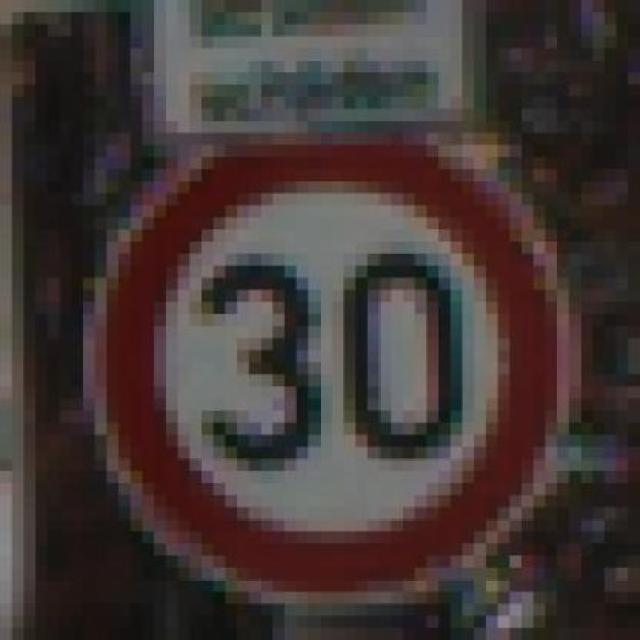Speed Limit 30 KMPh: (36, 133, 604, 616)
